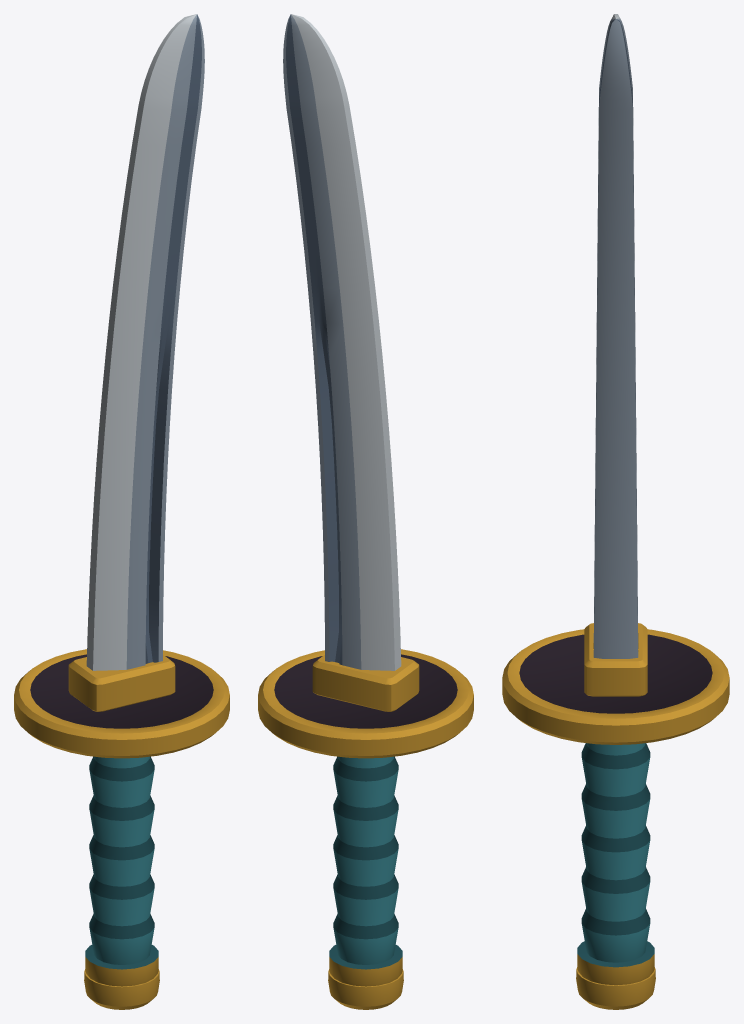
File: Katana_10.glb
3 views of the same model, side by side, from view 1: azimuth 30°, elevation 25°; view 2: azimuth 150°, elevation 25°; view 3: azimuth 270°, elevation 25° (orthographic). The views are drawn at different scales.
Parts seen in each view (by area): view 1: Katana_10; view 2: Katana_10; view 3: Katana_10.
Part boxes in pixels (bbox=[...]): Katana_10: bbox=[14, 14, 229, 1009]; Katana_10: bbox=[258, 14, 473, 1009]; Katana_10: bbox=[502, 14, 729, 1009].
Bounding box in the file's own units: 1.34 × 6.59 × 1.34.
